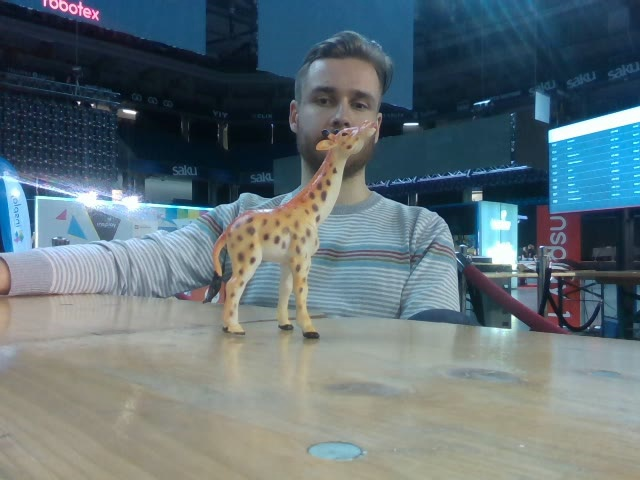toy: (202, 123, 371, 341)
